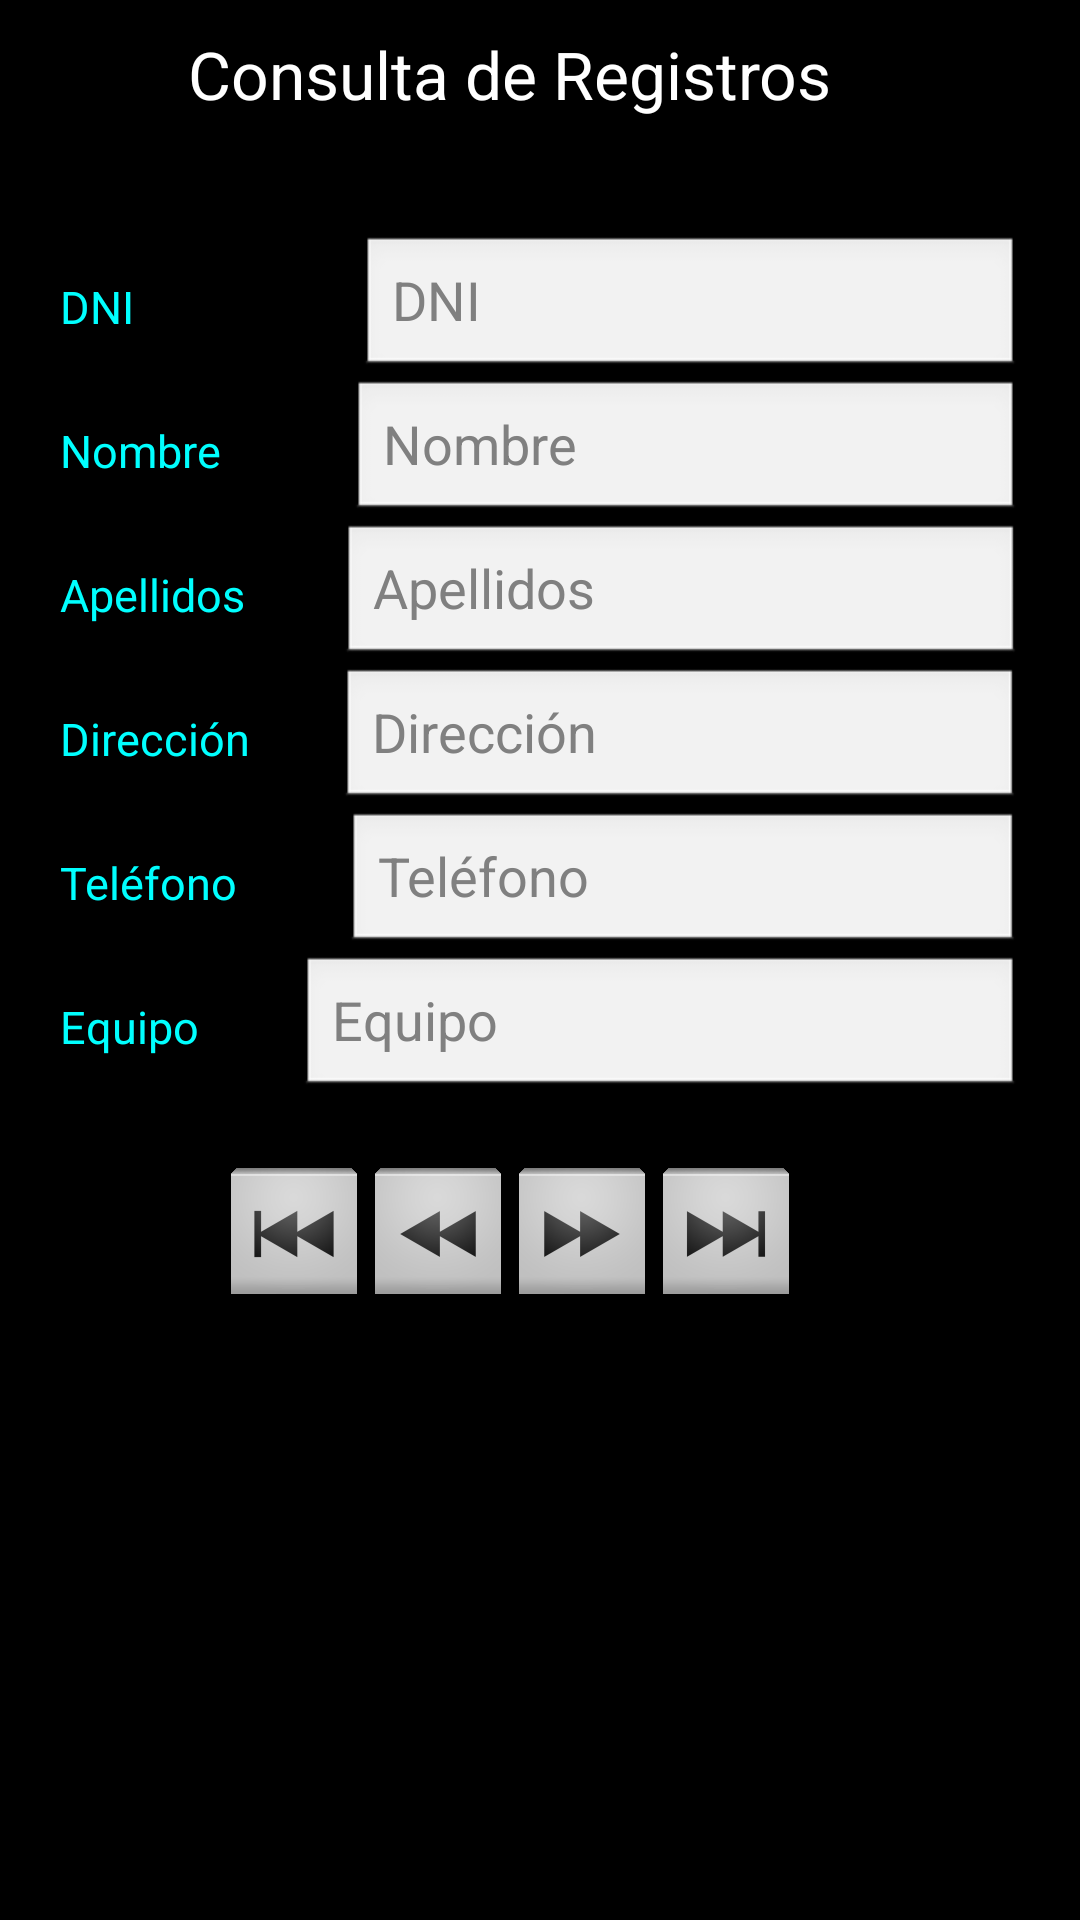

Named icons in this screenshot (1080x1920) and their centers, (x,y):
Ir al anterior: (438,1231)
Ir al primero: (294,1231)
Ir al siguiente: (582,1231)
Ir al último: (726,1231)
